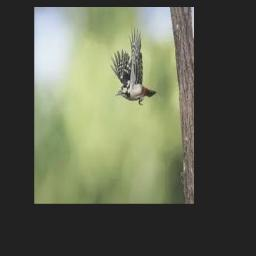Woodpecker: (110, 25, 156, 105)
